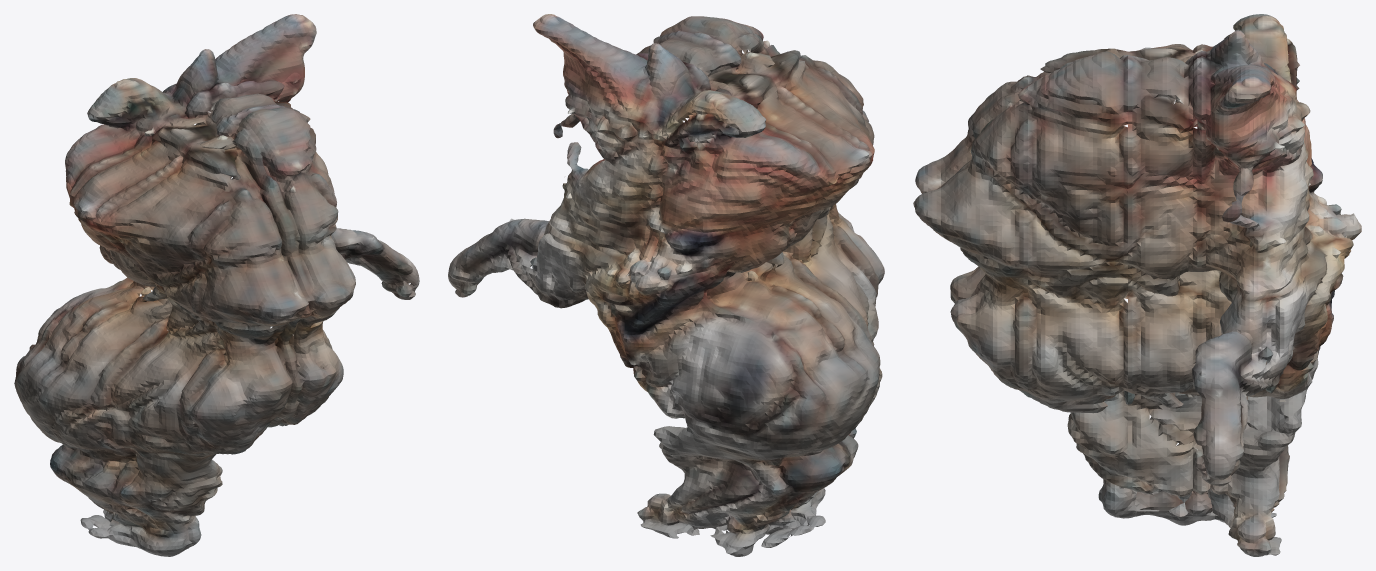
Rendered from man_horse.glb.
The picture shows the model from 3 angles, left to right: view 1: azimuth 30°, elevation 25°; view 2: azimuth 150°, elevation 25°; view 3: azimuth 270°, elevation 25°; orthographic projection. The views are drawn at different scales.
Visible parts, largest first — view 1: world; view 2: world; view 3: world.
Boxes of the visible parts, box(x1,y1,x2,y2) form: world: box(14, 14, 419, 556); world: box(448, 14, 884, 556); world: box(913, 14, 1361, 556).
Bounding box in the file's own units: 0.8347 × 0.9551 × 0.7041.
